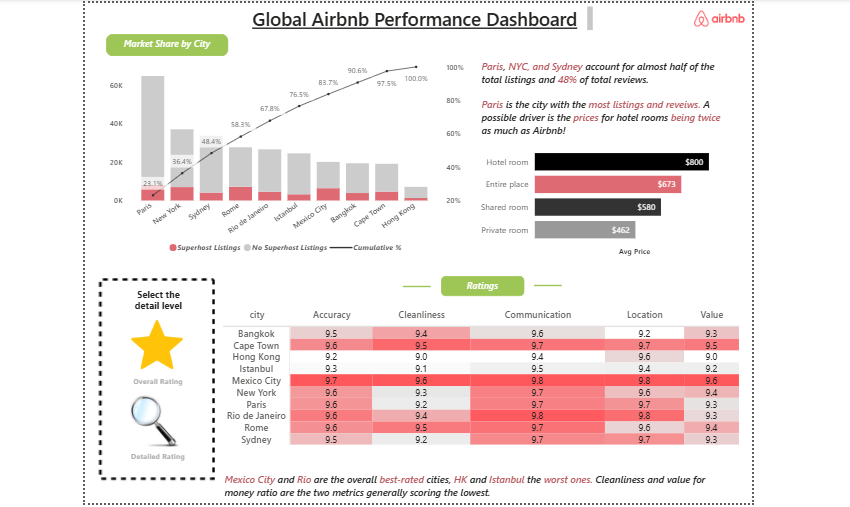

The page's visual inventory and layout, read from the dashboard file:
{"tool":"powerbi","page":{"name":"Ratings","canvas":[960,720],"ordinal":1},"visuals":[{"type":"textbox","box":[223.7,0,512.6,44.6],"z":0},{"type":"image","box":[877,0,73.4,44.6],"z":1000},{"type":"textbox","box":[30.2,44.6,175.7,31.7],"z":2000},{"type":"textbox","box":[565.9,76.3,367.2,123.8],"z":3000},{"type":"lineStackedColumnComboChart","fields":{"Category":["Listings.city"],"Y":["Listings.Superhost Listings","Listings.No Superhost Listings"],"Y2":["Listings.Cumulative %"]},"box":[30.2,76.3,521.3,293.8],"z":4000},{"type":"barChart","fields":{"Category":["Listings.room_type"],"Y":["Listings.Avg Price"]},"box":[558.7,190.1,381.6,180],"z":5000},{"type":"image","box":[55.6,446.5,95,90.7],"z":5007,"group":"g1"},{"type":"shape","box":[57,531.5,95,25.9],"z":5012,"group":"g1"},{"type":"textbox","box":[512.6,393.1,119.5,28.8],"z":6000},{"type":"shape","box":[457.9,371.5,40.3,73.4],"z":7000},{"type":"shape","box":[646.6,370.1,40.3,73.4],"z":8000},{"type":"image","box":[0,364.3,210.2,355.7],"z":9000},{"type":"shape","box":[60.5,403.2,90.7,47.5],"z":10000},{"type":"image","box":[56.1,564.5,95,76.3],"z":11000,"group":"g2"},{"type":"pivotTable","fields":{"Rows":["Listings.city"],"Values":["Listings.Accuracy","Listings.Cleanliness","Listings.Communication","Listings.Location","Listings.Value"]},"box":[194.4,434.9,756,234.7],"z":12000},{"type":"group","id":"g1","title":"Group 1","box":[55.6,446.5,96.5,110.9],"z":13000},{"type":"group","id":"g2","title":"Group 2","box":[51.8,564.5,106.6,99.4],"z":14000},{"type":"shape","box":[51.8,640.8,106.6,23],"z":14000,"group":"g2"},{"type":"textbox","box":[195.8,671,735.8,49],"z":15000}]}

Visuals, with their boxes on the page's 960x720 design canvas (x1, y1, x2, y2). These are canvas units, not pixel positions in the 850x507 screenshot, which may show the page scaled, cropped or inside an application window:
textbox: 224:0:736:45
image: 877:0:950:45
textbox: 30:45:206:76
textbox: 566:76:933:200
lineStackedColumnComboChart - Listings.city x Listings.Superhost Listings: 30:76:552:370
barChart - Listings.room_type x Listings.Avg Price: 559:190:940:370
image: 56:446:151:537
shape: 57:532:152:557
textbox: 513:393:632:422
shape: 458:372:498:445
shape: 647:370:687:444
image: 0:364:210:720
shape: 60:403:151:451
image: 56:564:151:641
pivotTable - Listings.city x Listings.Accuracy: 194:435:950:670
"Group 1" group: 56:446:152:557
"Group 2" group: 52:564:158:664
shape: 52:641:158:664
textbox: 196:671:932:720
